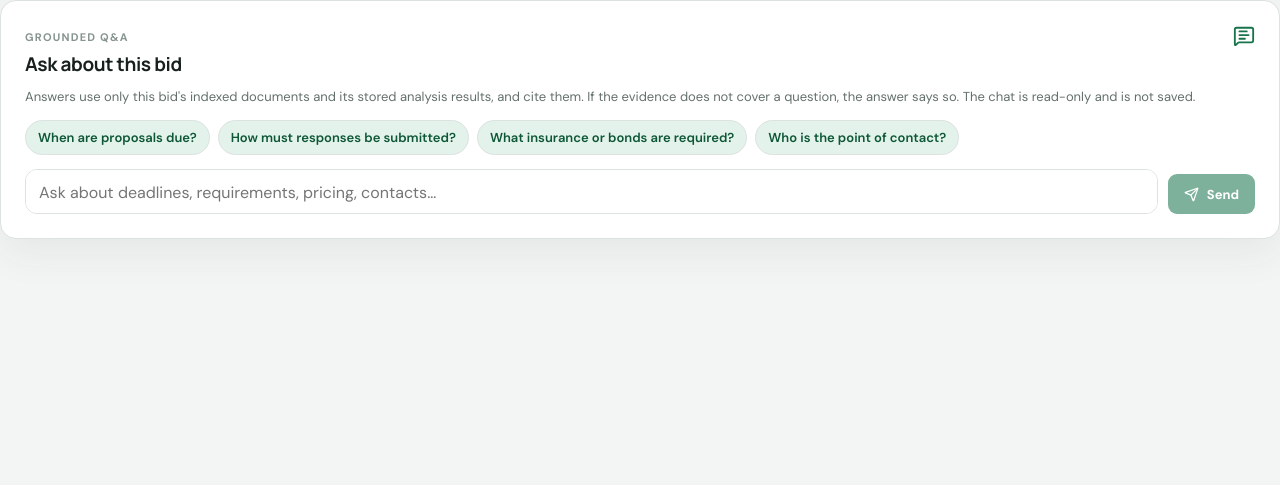
bid chat › clears the conversation
The width and height of the screenshot is (1280, 485).
Type "When are proposals due?" into the text box named "Your question". click: point(591, 192)
box: [25,169,1158,214]
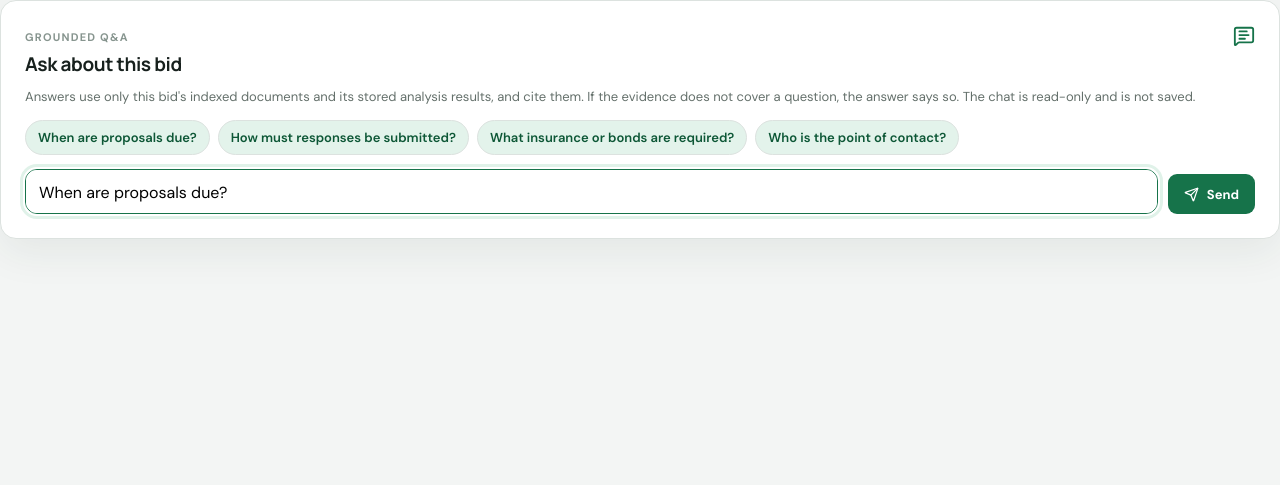
Press Enter
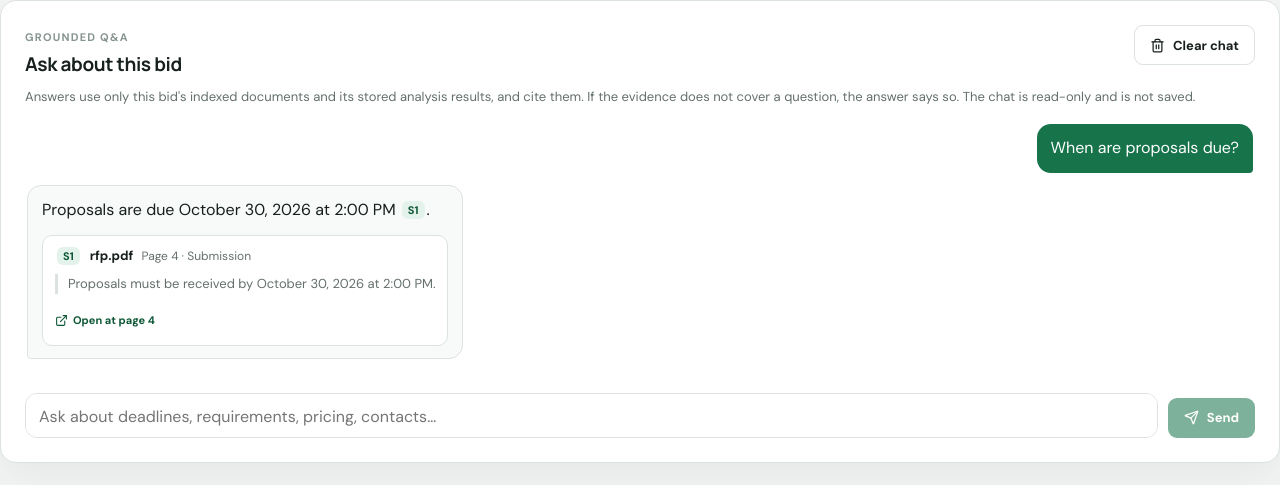
Check: the text "Proposals are due October 30, 2026 at 2:00 PM S1 ." is shown, box [42,198,448,223]
Click the button "Clear chat". click: point(1194, 45)
box: [1134,25,1255,65]
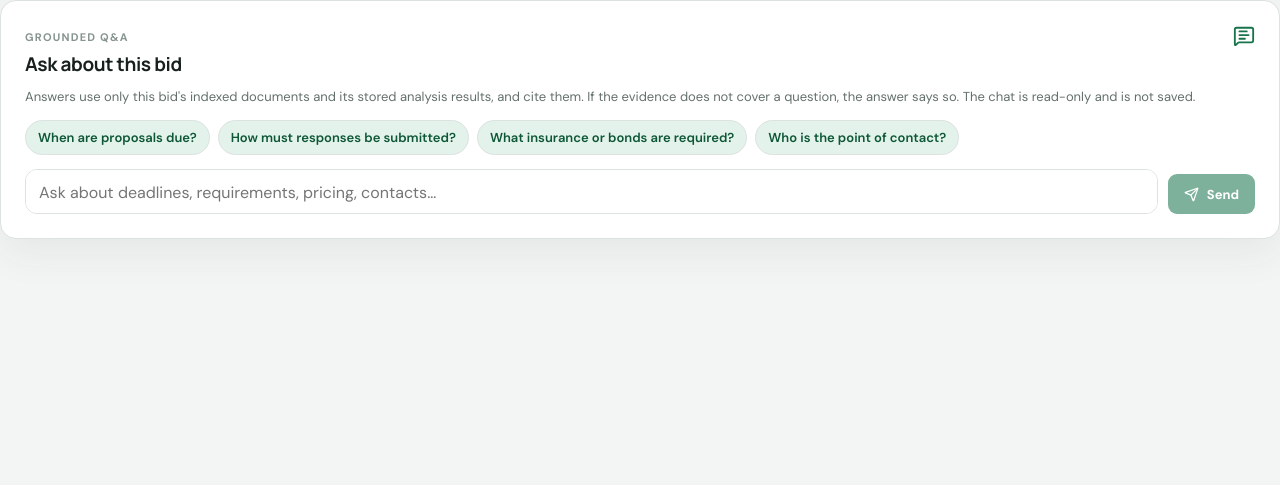
Check: the button "When are proposals due?" is shown, box [25,120,210,155]
Check: the text "Proposals are due" is gone
